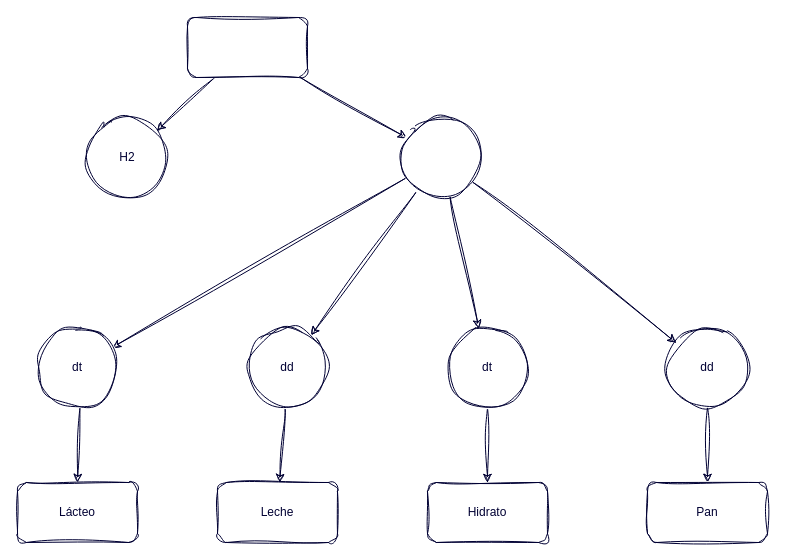
This 785x560 diagram has some shape labels left out. Here are the shapes that lost their labels. From the top down, the centre of each, then its label:
the point at 247,47: BODY
the point at 441,157: dl
